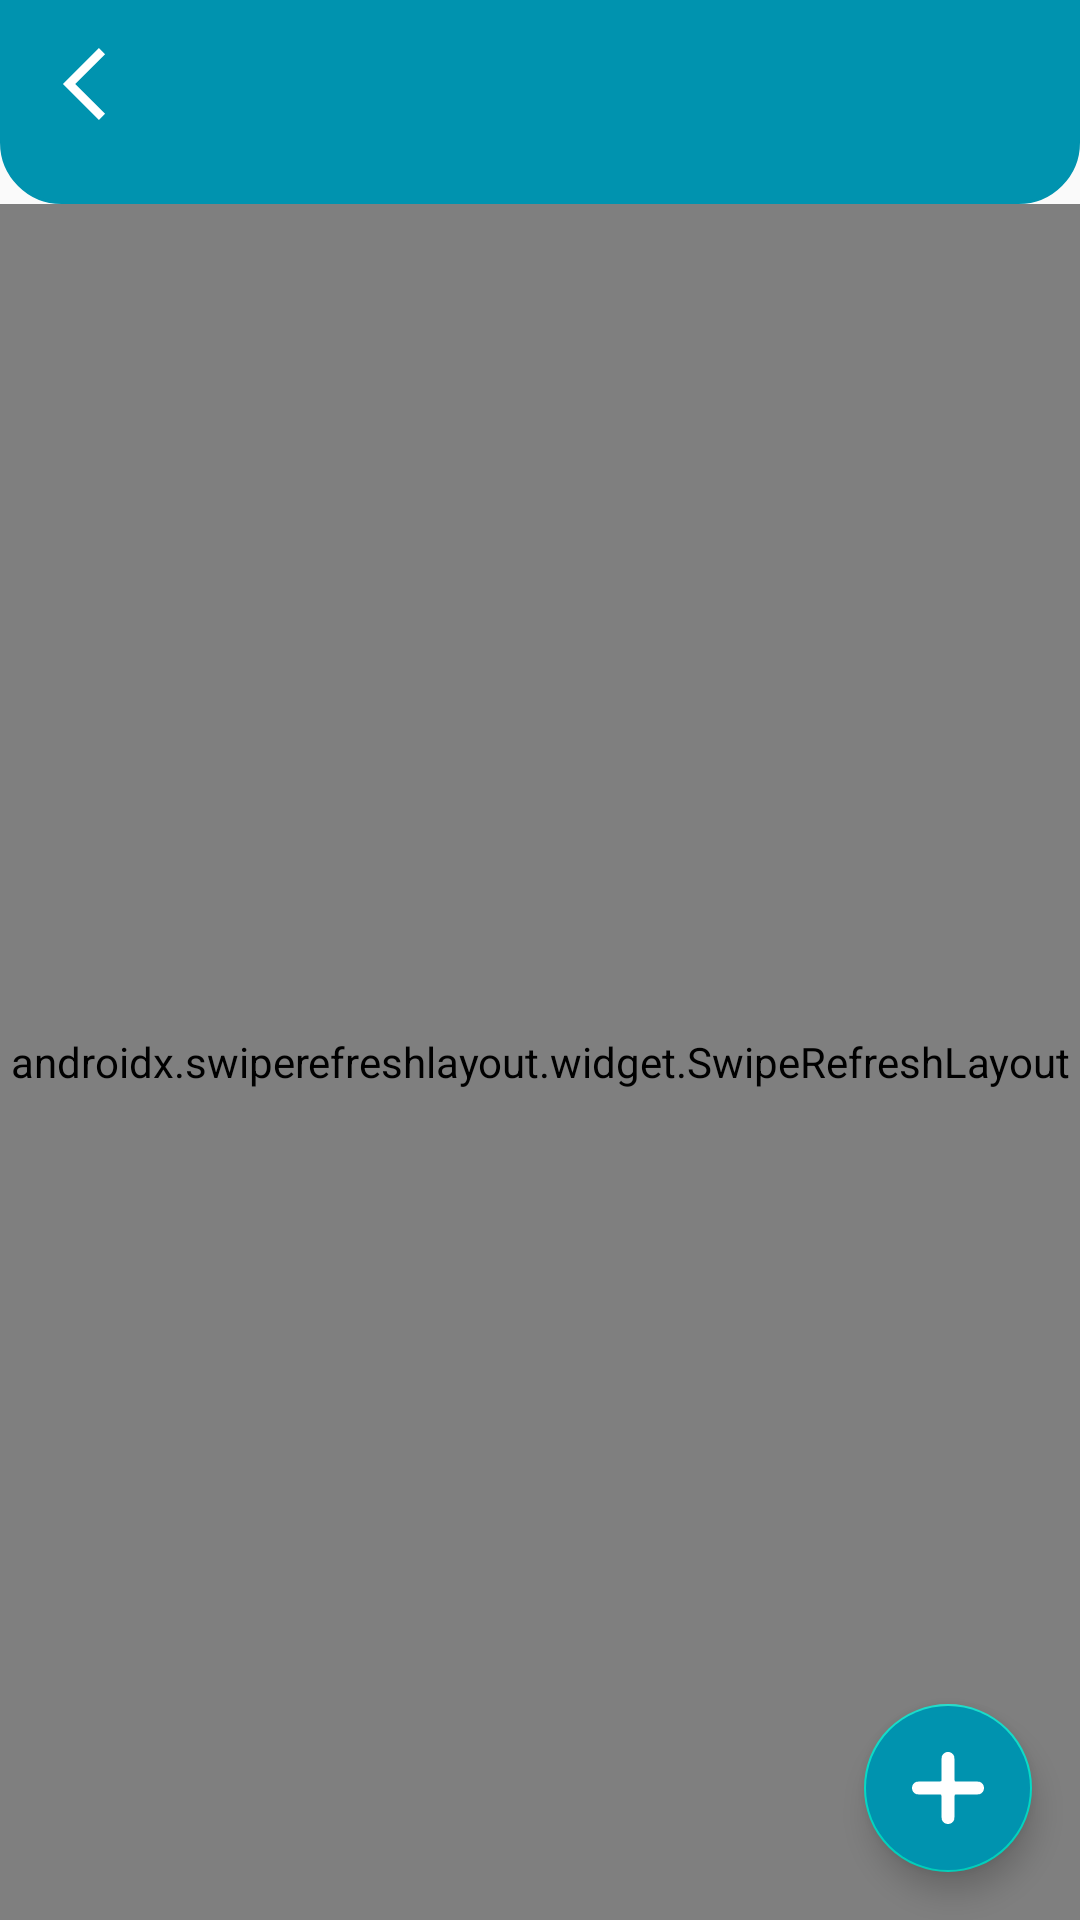

Screen size 1080px×1920px. Icon name, then its box in pixels as (x1, y1, x2, y2):
add: (864, 1704, 1032, 1872)
back arrow: (63, 48, 105, 120)
